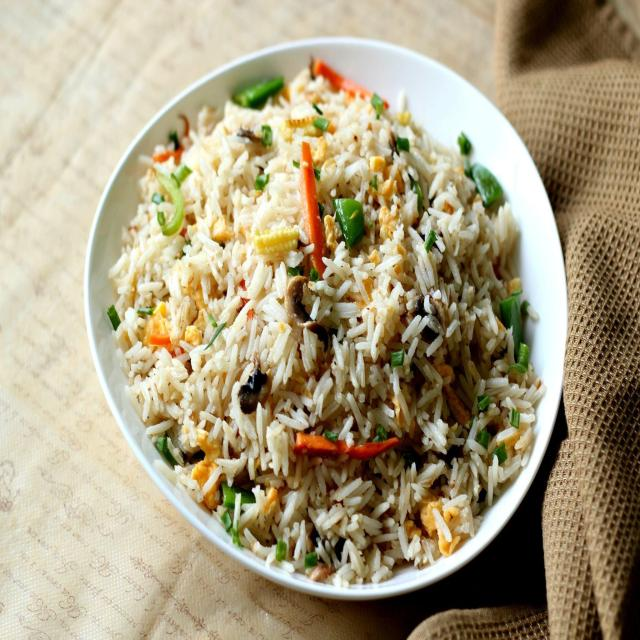Nasi Goreng: (106, 56, 546, 588)
